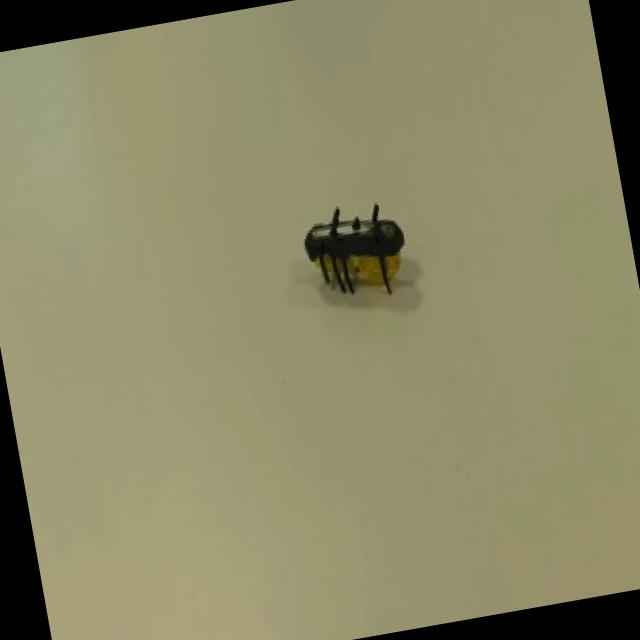6_NanoBug_GrisOscuro: (264, 174, 444, 336)
